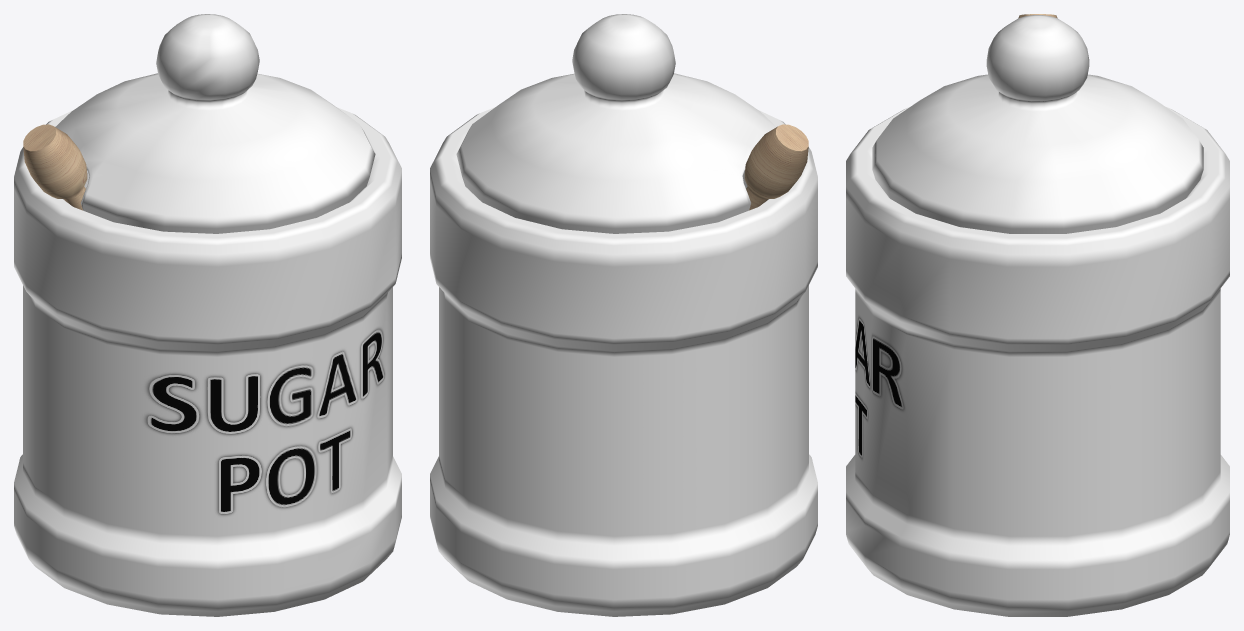
The model's file is sugar.fbx.
The picture shows the model from 3 angles, left to right: view 1: azimuth 30°, elevation 25°; view 2: azimuth 150°, elevation 25°; view 3: azimuth 270°, elevation 25°; orthographic projection.
Visible parts, largest first — view 1: sugar; view 2: sugar; view 3: sugar.
Boxes of the visible parts, x1,y1,x2,y2 form: sugar: [14, 14, 401, 616]; sugar: [430, 14, 817, 616]; sugar: [846, 14, 1229, 616].
Bounding box in the file's own units: 12.66 × 18.02 × 12.07.
